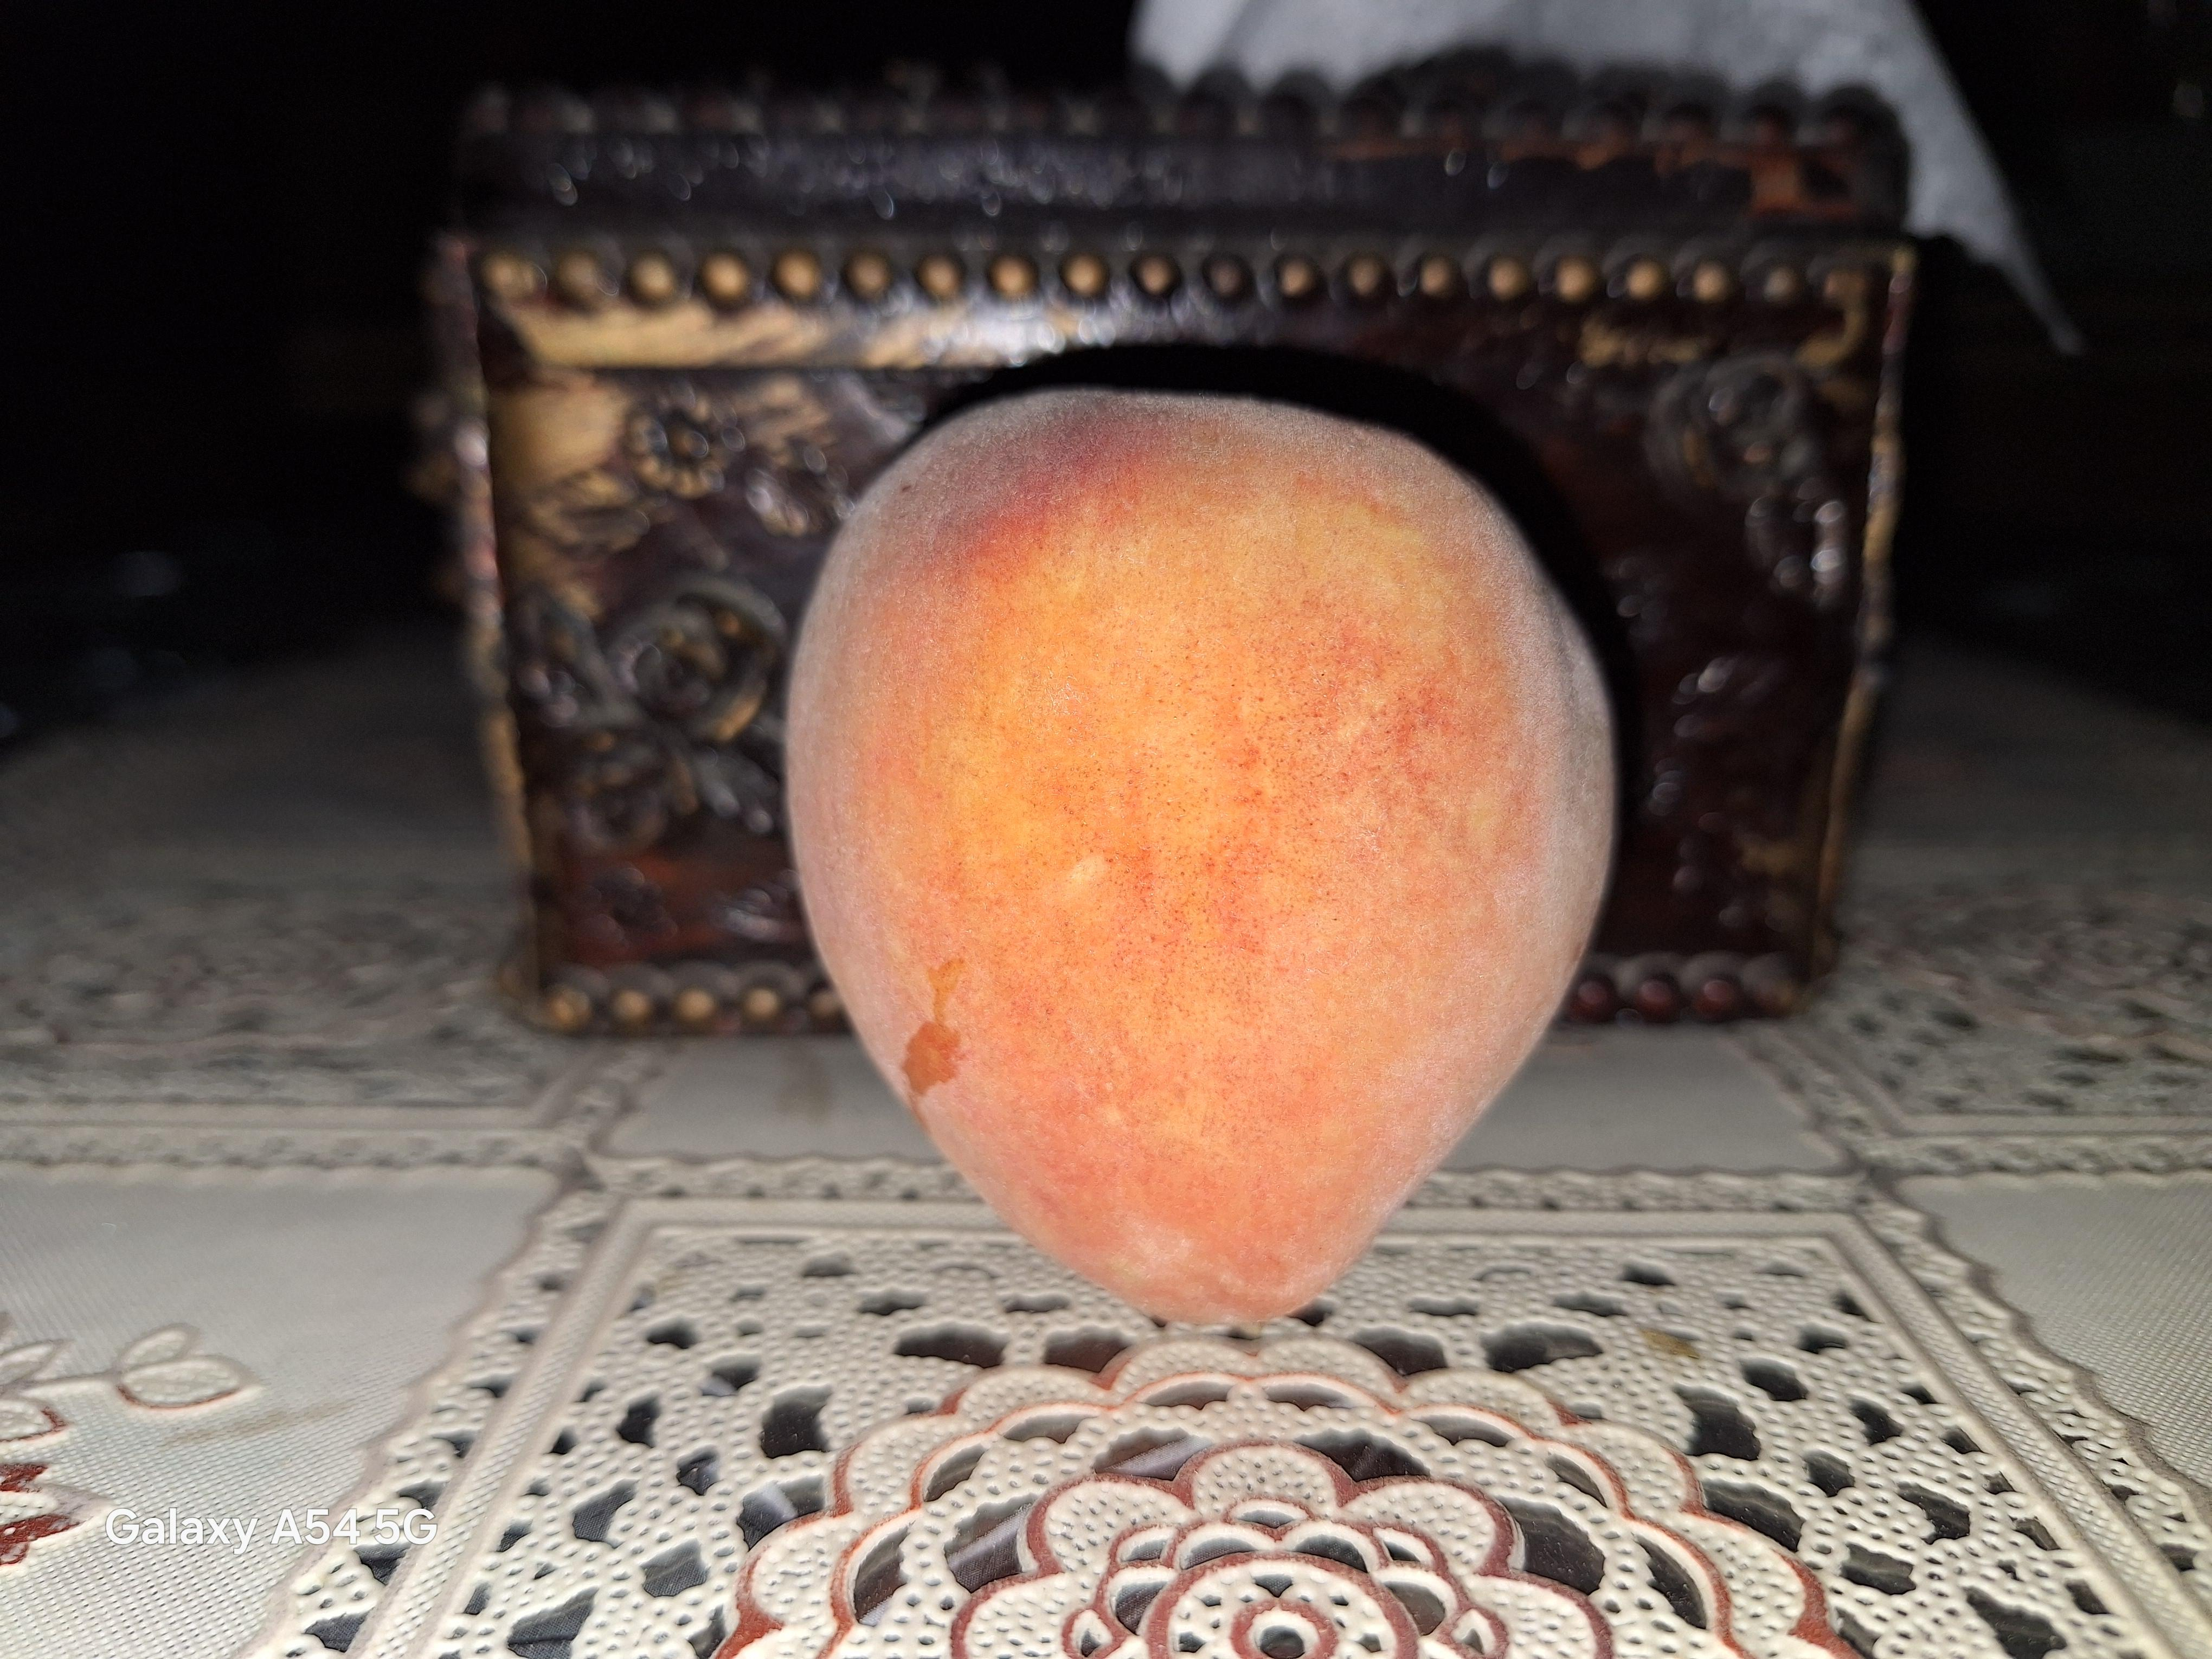non-mango: (786, 371, 1648, 1354)
